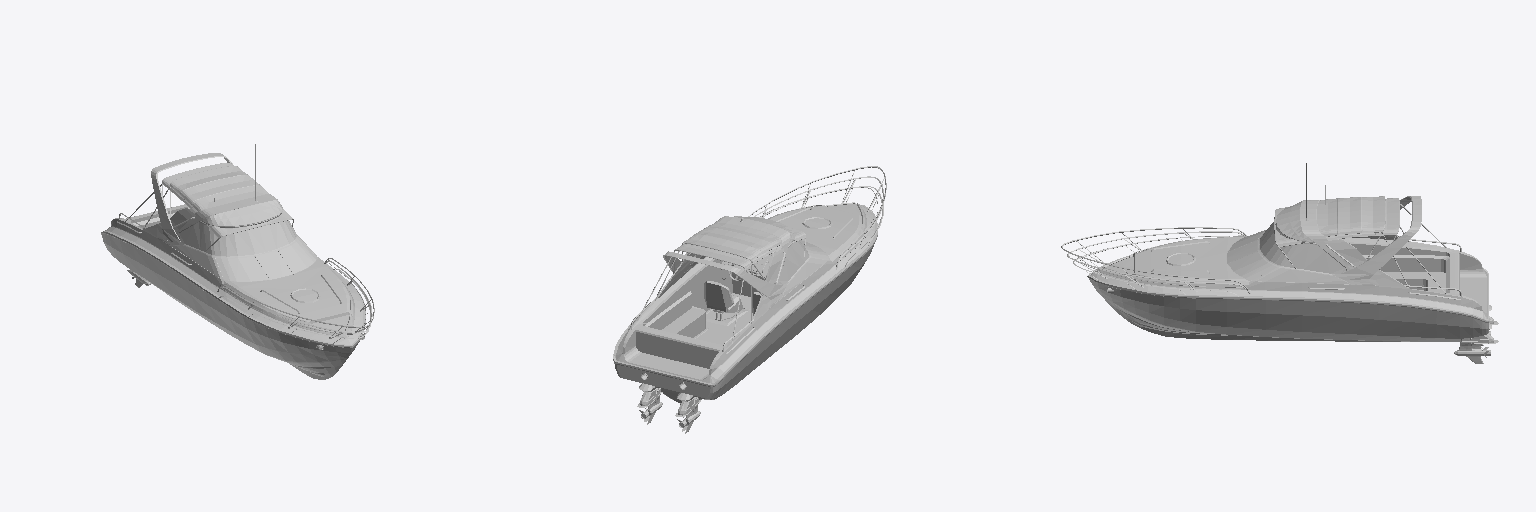
File: boat.obj
3 renders of one model, left to right at view 1: azimuth 30°, elevation 25°; view 2: azimuth 150°, elevation 25°; view 3: azimuth 270°, elevation 25°, orthographic.
Parts seen in each view (by area): view 1: Hull, Windows, Deck, Roof, Steel; view 2: Hull, Deck, Interior, Steel, Roof, Windows, Floor; view 3: Hull, Deck, Steel, Windows, Roof, Interior.
Part boxes in pixels (bbox=[...]): Hull: bbox=[101, 153, 365, 379]; Windows: bbox=[173, 216, 317, 300]; Deck: bbox=[102, 227, 364, 352]; Roof: bbox=[162, 163, 292, 236]; Steel: bbox=[111, 144, 374, 349]; Hull: bbox=[613, 204, 877, 403]; Deck: bbox=[614, 205, 874, 410]; Interior: bbox=[636, 258, 767, 347]; Steel: bbox=[622, 166, 886, 433]; Roof: bbox=[677, 216, 805, 267]; Windows: bbox=[688, 218, 829, 296]; Floor: bbox=[696, 309, 753, 344]; Hull: bbox=[1087, 196, 1488, 341]; Deck: bbox=[1089, 253, 1492, 338]; Steel: bbox=[1061, 163, 1498, 363]; Windows: bbox=[1168, 222, 1347, 283]; Roof: bbox=[1275, 196, 1398, 246]; Interior: bbox=[1348, 242, 1454, 294].
Bounding box in the file's own units: 64.23 × 102 × 204.